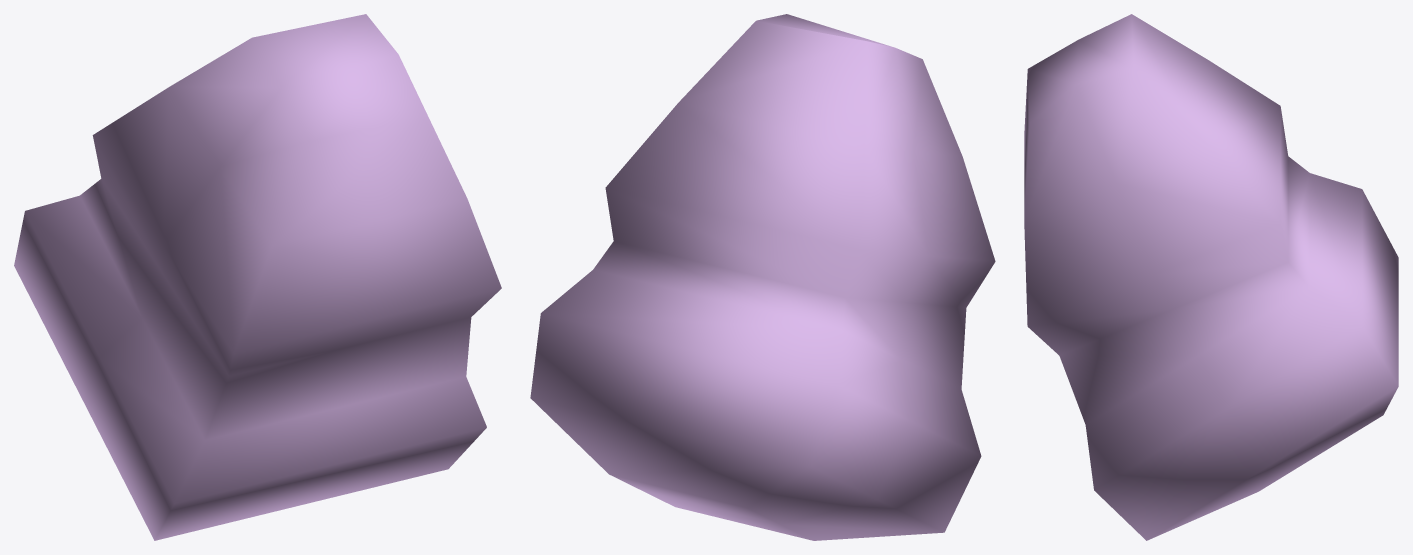
File: TUBER.fbx
3 renders of one model, left to right at view 1: azimuth 30°, elevation 25°; view 2: azimuth 150°, elevation 25°; view 3: azimuth 270°, elevation 25°, orthographic. The views are drawn at different scales.
Parts seen in each view (by area): view 1: Cube.004; view 2: Cube.004; view 3: Cube.004.
Part boxes in pixels (bbox=[...]): Cube.004: bbox=[14, 14, 501, 540]; Cube.004: bbox=[530, 14, 995, 540]; Cube.004: bbox=[1024, 14, 1398, 540].
Size of the model in its own units: 254 by 378 by 293.
